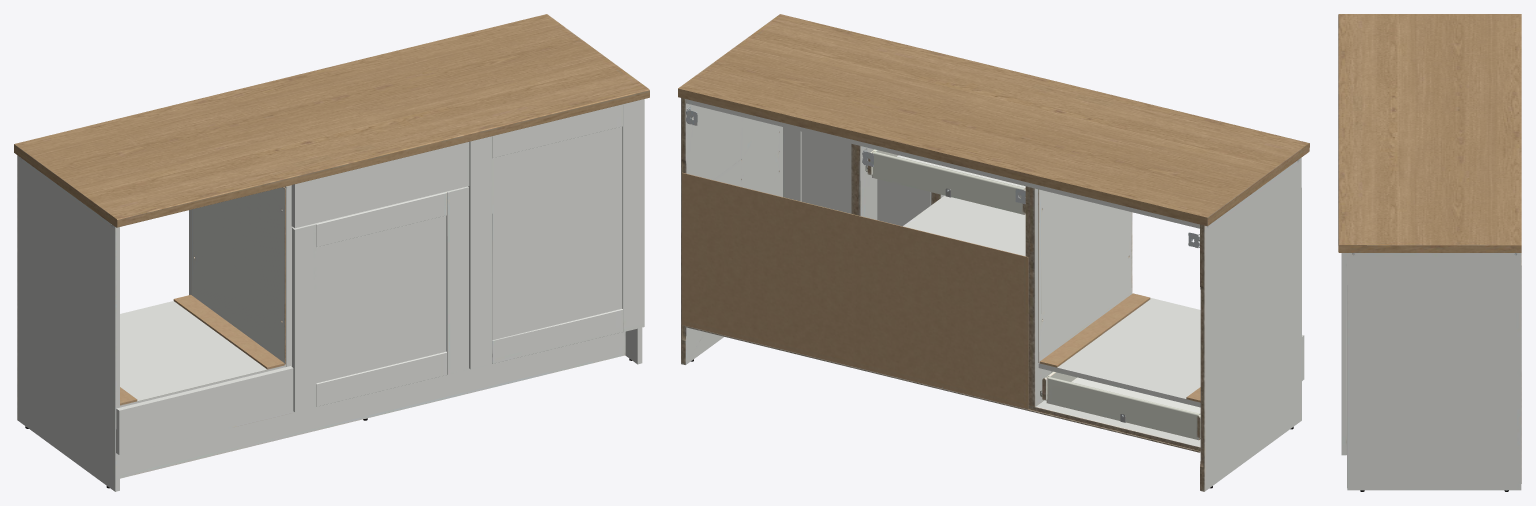
File: knoxhult-armario-bajo-con-puertas-y-cajon-blanco-estructura-90603973.glb
3 views of the same model, side by side, from view 1: azimuth 30°, elevation 25°; view 2: azimuth 150°, elevation 25°; view 3: azimuth 270°, elevation 25° (orthographic). The views are drawn at different scales.
Parts seen in each view (by area): view 1: ASY_ART_90603973_S01_NV01; view 2: ASY_ART_90603973_S01_NV01; view 3: ASY_ART_90603973_S01_NV01.
Part boxes in pixels (bbox=[...]): ASY_ART_90603973_S01_NV01: bbox=[14, 14, 649, 491]; ASY_ART_90603973_S01_NV01: bbox=[678, 14, 1309, 491]; ASY_ART_90603973_S01_NV01: bbox=[1338, 14, 1521, 491].
Bounding box in the file's own units: 1.82 × 0.9105 × 0.61.
2 materials, 2 textured.
